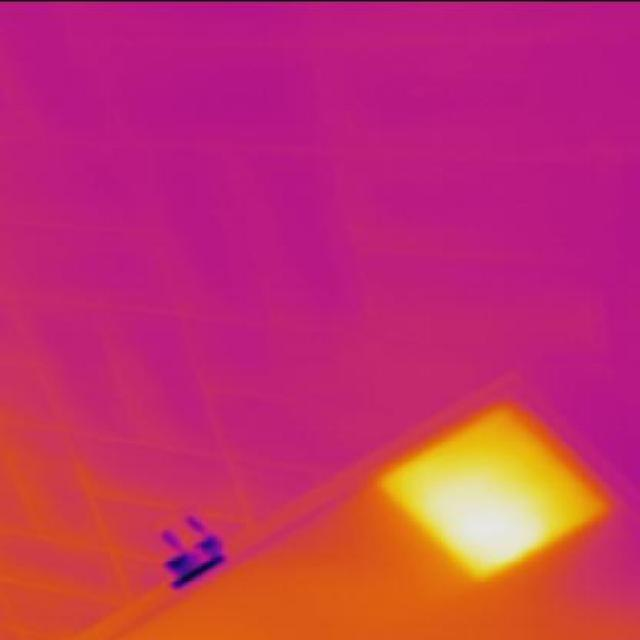hotspot: (372, 388, 625, 588)
